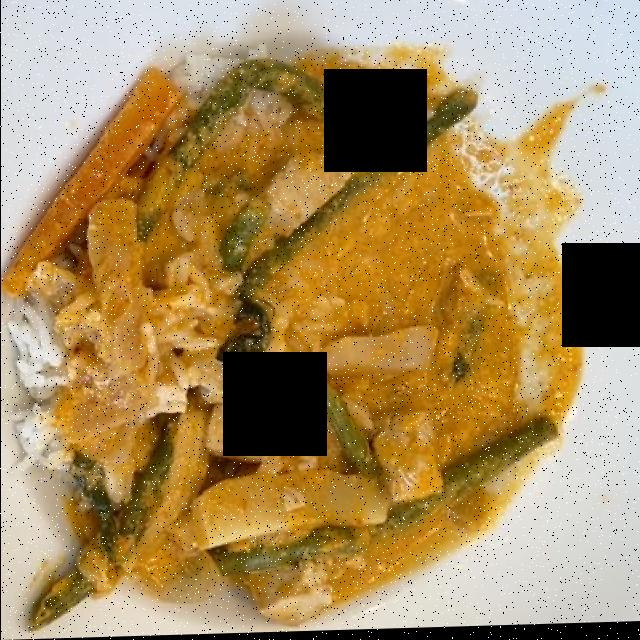curry-vegetarian: (12, 58, 543, 625)
rice: (1, 48, 293, 468)
